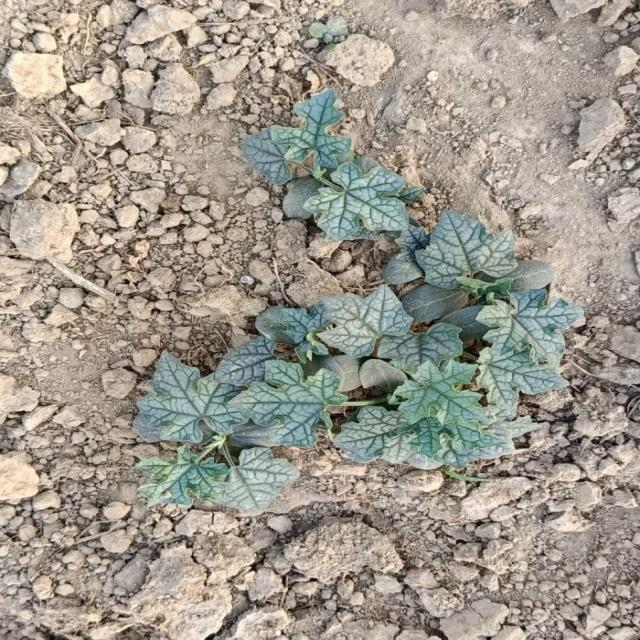plant: (134, 90, 584, 511)
